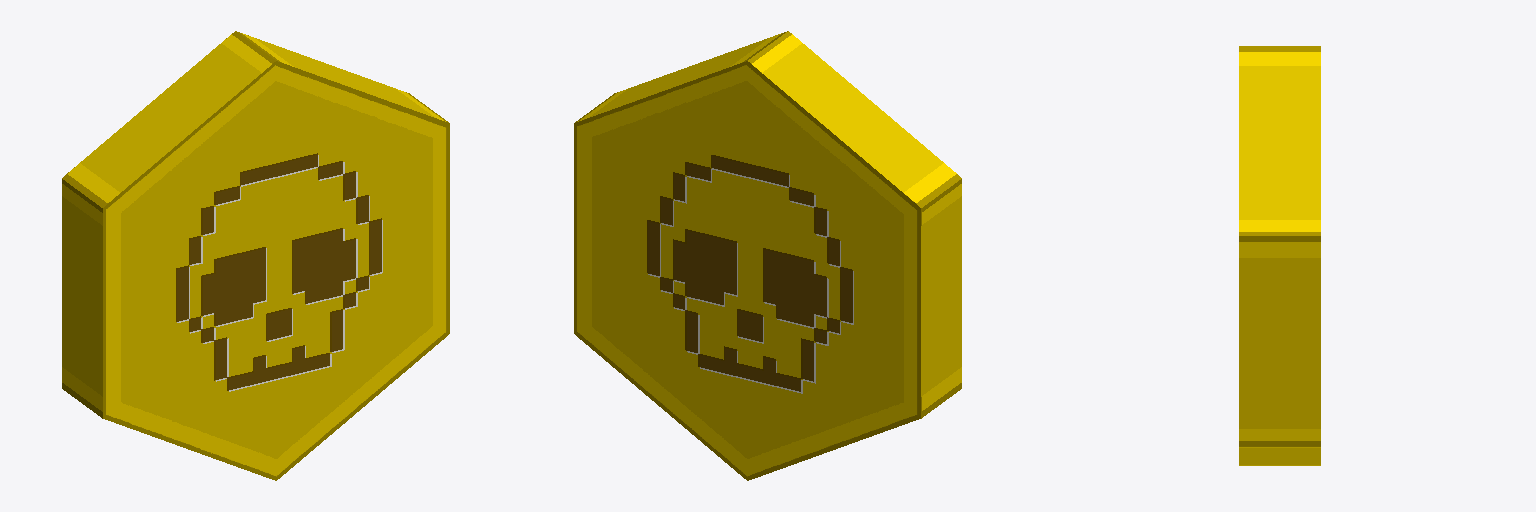
3 renders of one model, left to right at view 1: azimuth 30°, elevation 25°; view 2: azimuth 150°, elevation 25°; view 3: azimuth 270°, elevation 25°, orthographic.
Visible parts, largest first — view 1: Cylinder; view 2: Cylinder; view 3: Cylinder.
Boxes of the visible parts, x1=… form: Cylinder: x1=62, y1=31, x2=449, y2=480; Cylinder: x1=574, y1=31, x2=961, y2=480; Cylinder: x1=1239, y1=46, x2=1320, y2=465.
Bounding box in the file's own units: 0.4214 × 0.4866 × 0.086.
Materials: 1 (1 with a texture image).